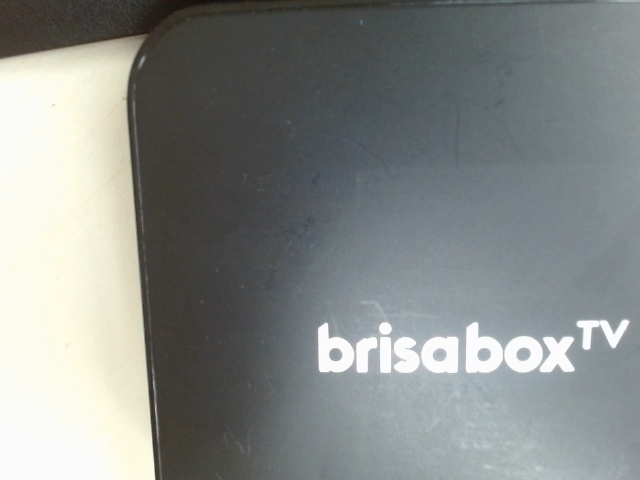AH_brisabox: (305, 305, 632, 387)
